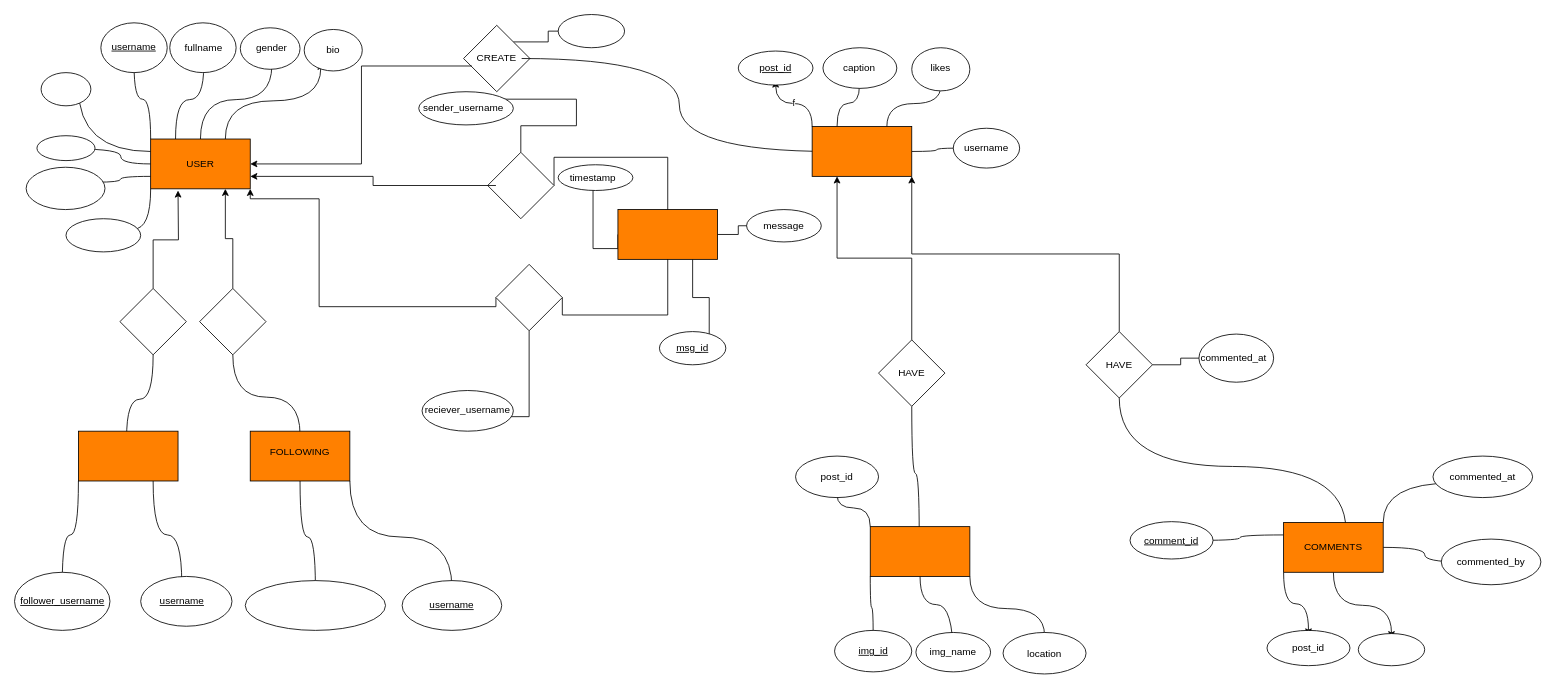
Some shapes in this 1555 by 689 pixel diagram are drawn without their labels. The centre of each missing label's shape, as x and y in pixels:
"body" goes at point 1391,649.
"created_at" goes at point 591,31.
"email" goes at point 65,89.
"FOLLOWERS" goes at point 128,455.
"following_username" goes at point 315,605.
"HAS" goes at point 152,321.
"IMAGES" goes at point 919,551.
"IS" goes at point 232,321.
"MESSAGES" goes at point 667,234.
"password" goes at point 103,235.
"phonenumber" goes at point 65,188.
"POSTS" goes at point 861,151.
"RECIEVE" goes at point 528,297.
"SEND" goes at point 520,185.
"website" goes at point 65,148.
